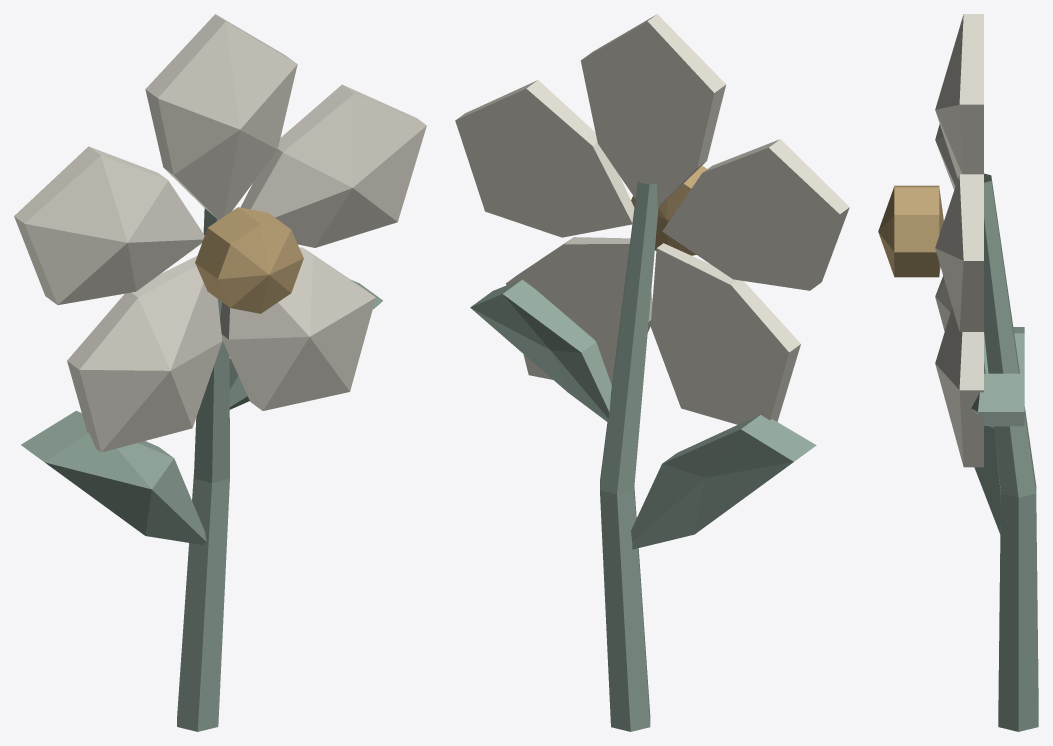
File: temple-stone-flower.glb
3 renders of one model, left to right at view 1: azimuth 30°, elevation 25°; view 2: azimuth 150°, elevation 25°; view 3: azimuth 270°, elevation 25°, orthographic. The views are drawn at different scales.
Visible parts, largest first — view 1: ivory-five-petals, sage-stem-and-leaves, gold-blossom-center; view 2: ivory-five-petals, sage-stem-and-leaves, gold-blossom-center; view 3: sage-stem-and-leaves, ivory-five-petals, gold-blossom-center.
Boxes of the visible parts, box(x1,y1,x2,y2) form: ivory-five-petals: box(14, 14, 426, 452); sage-stem-and-leaves: box(21, 208, 382, 731); gold-blossom-center: box(195, 207, 303, 313); ivory-five-petals: box(455, 14, 849, 424); sage-stem-and-leaves: box(470, 180, 816, 731); gold-blossom-center: box(631, 165, 706, 255); sage-stem-and-leaves: box(971, 173, 1038, 731); ivory-five-petals: box(935, 14, 983, 467); gold-blossom-center: box(878, 185, 943, 277).
Bounding box in the file's own units: 0.2244 × 0.384 × 0.079.
